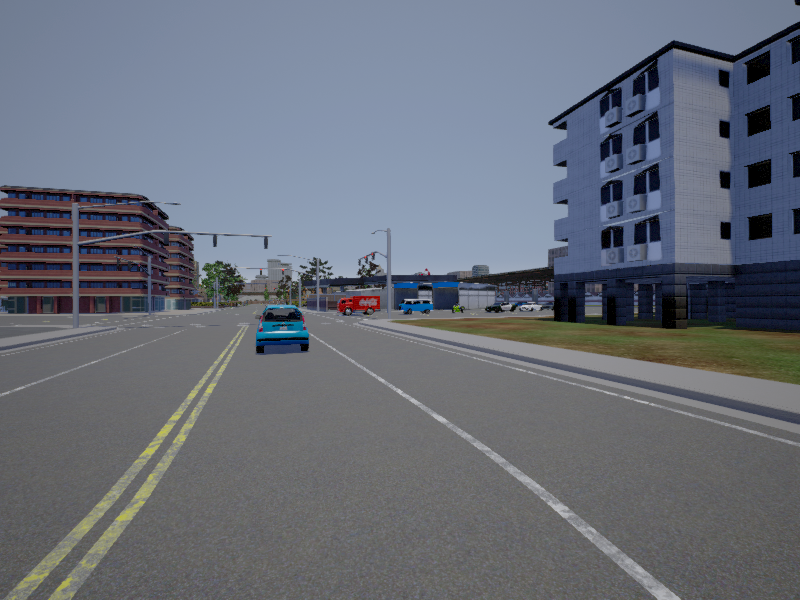Benign: (255, 305, 307, 355), (339, 294, 382, 318), (399, 297, 434, 316), (485, 303, 515, 314)
